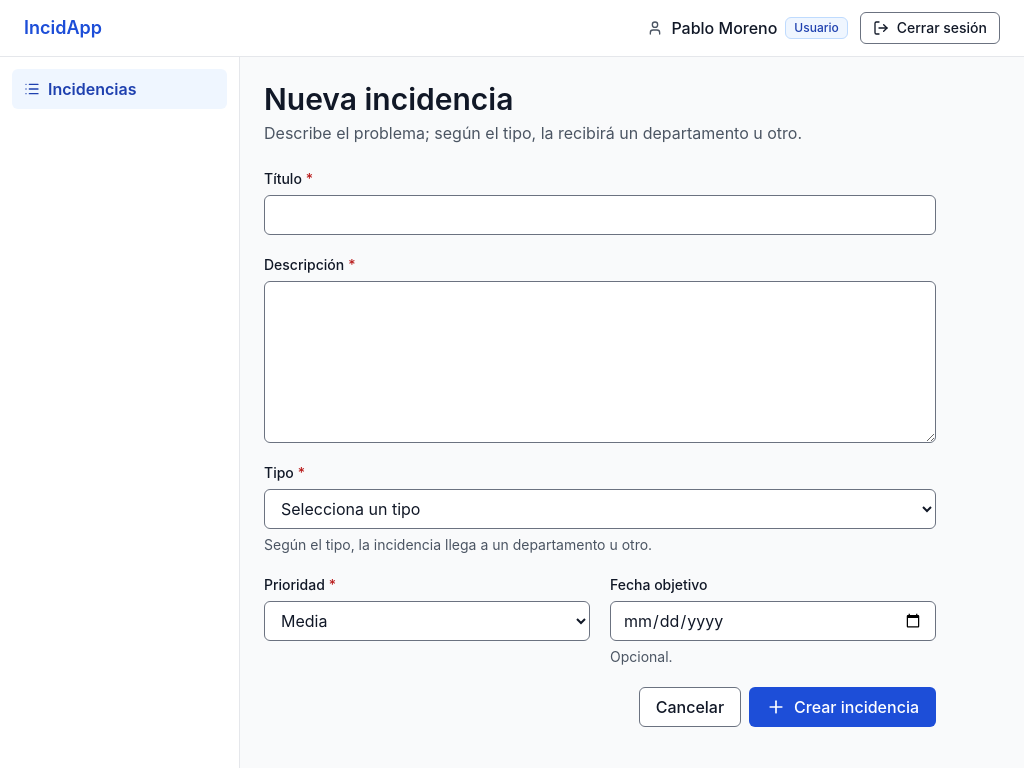
Test case: CA-03.13 · alta desde la web › al crear envía los datos y navega al detalle con un aviso
Type "Palé dañado en la recepción del camión de las 8:00" into the field labelled "Título*" at (600,215), box [264,195,936,235]
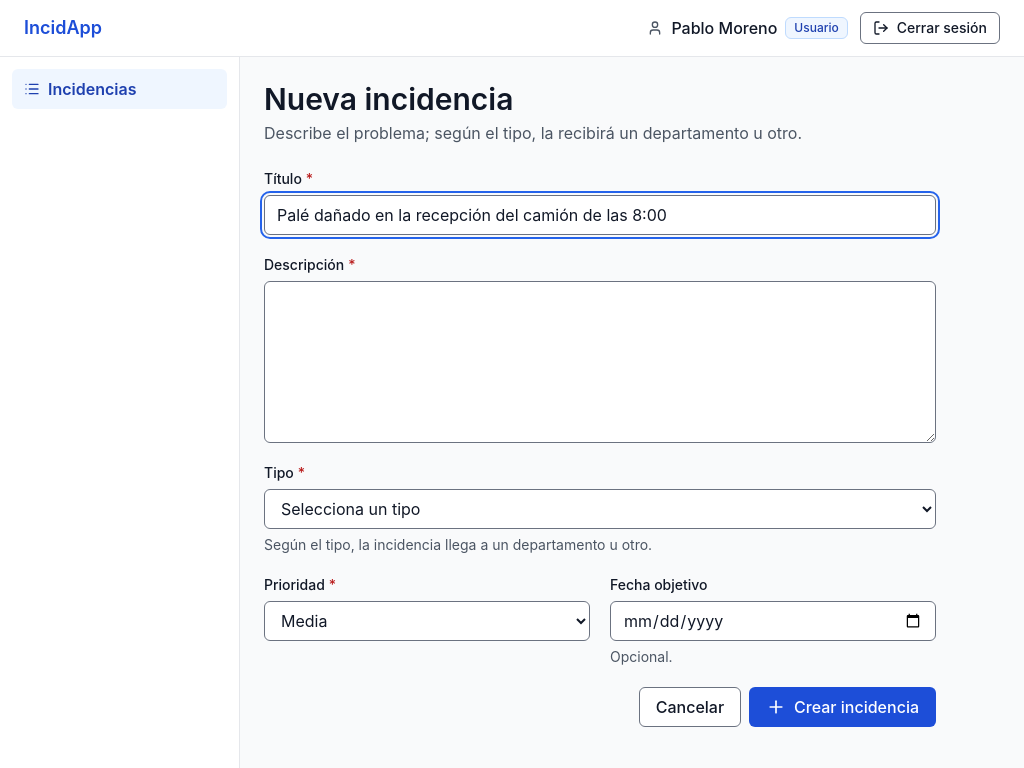
Type "El palé llegó con el film roto." into the text box labelled "Descripción*" at (600,362), box [264,281,936,443]
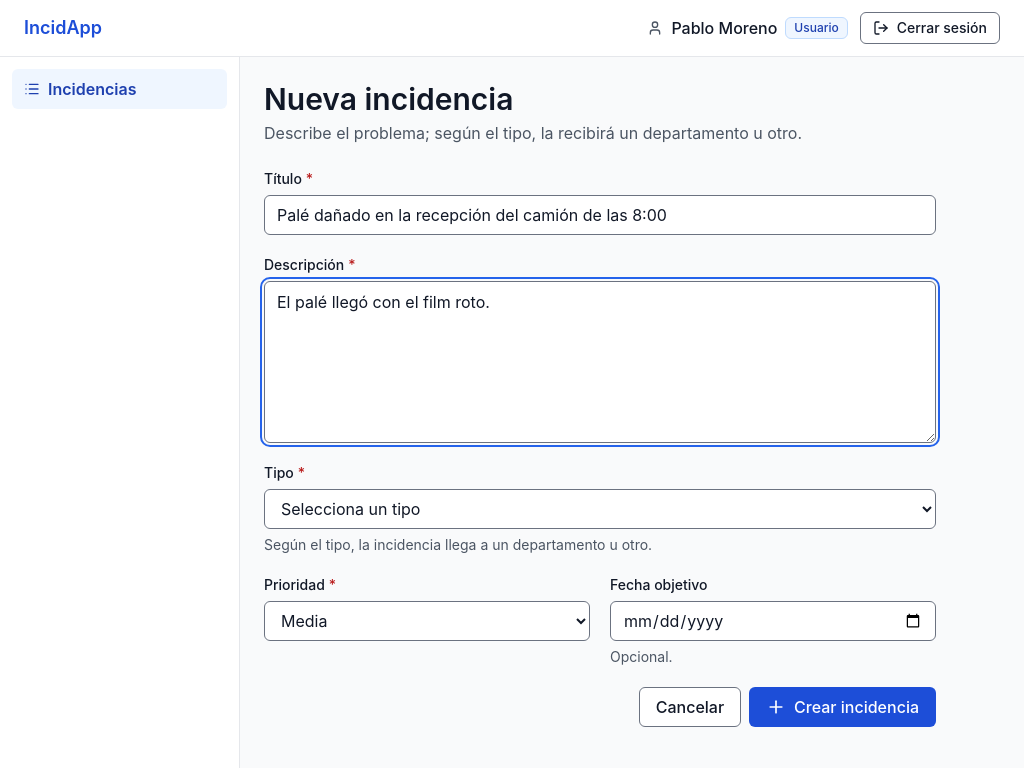
Select "Transporte" in the dropdown labelled "Tipo*" at (600,509), box [264,489,936,529]
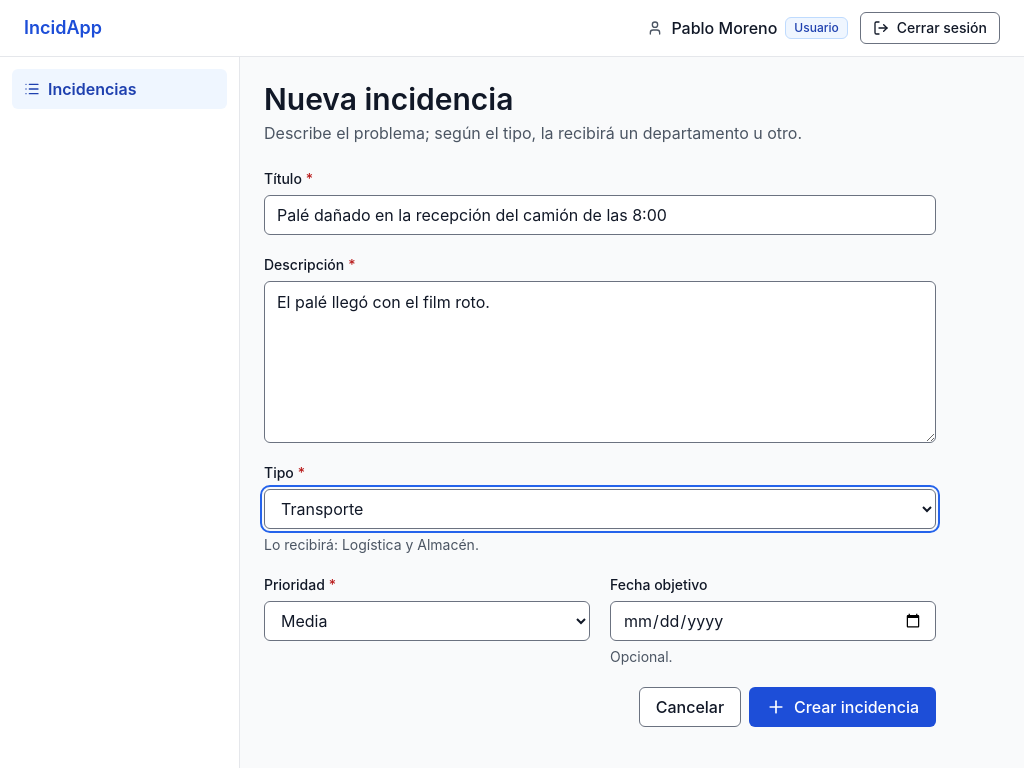
Select "Alta" in the dropdown labelled "Prioridad*" at (427,621), box [264,601,590,641]
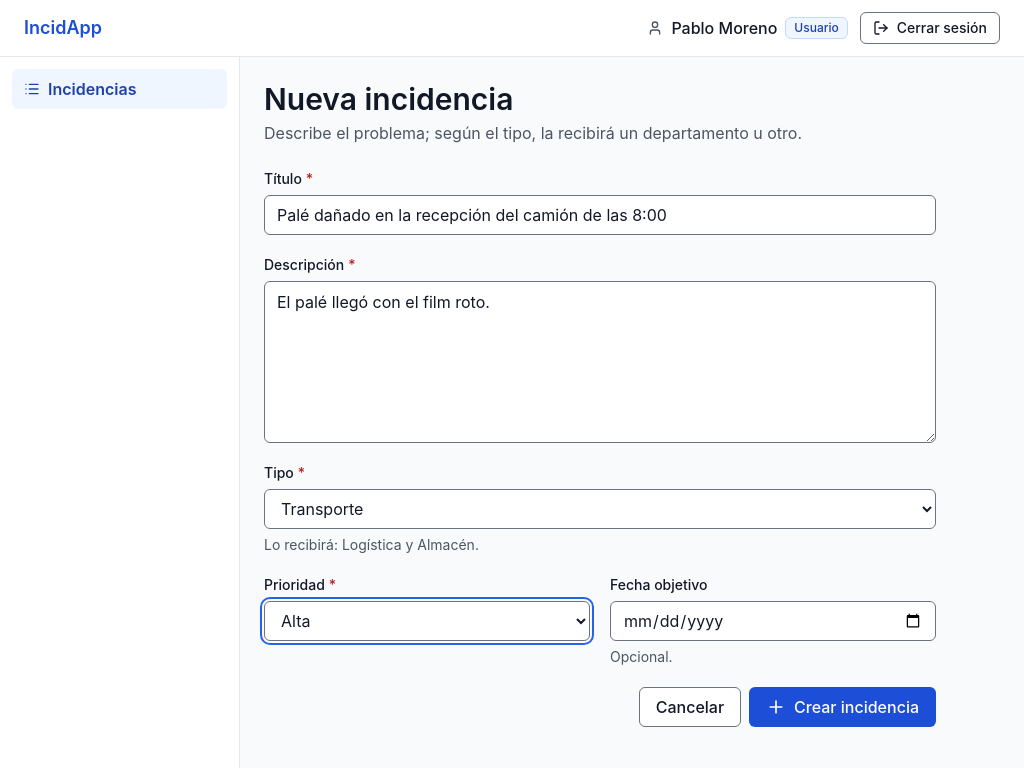
Type "2026-11-30" into the date field labelled "Fecha objetivo" at (773,621), box [610,601,936,641]
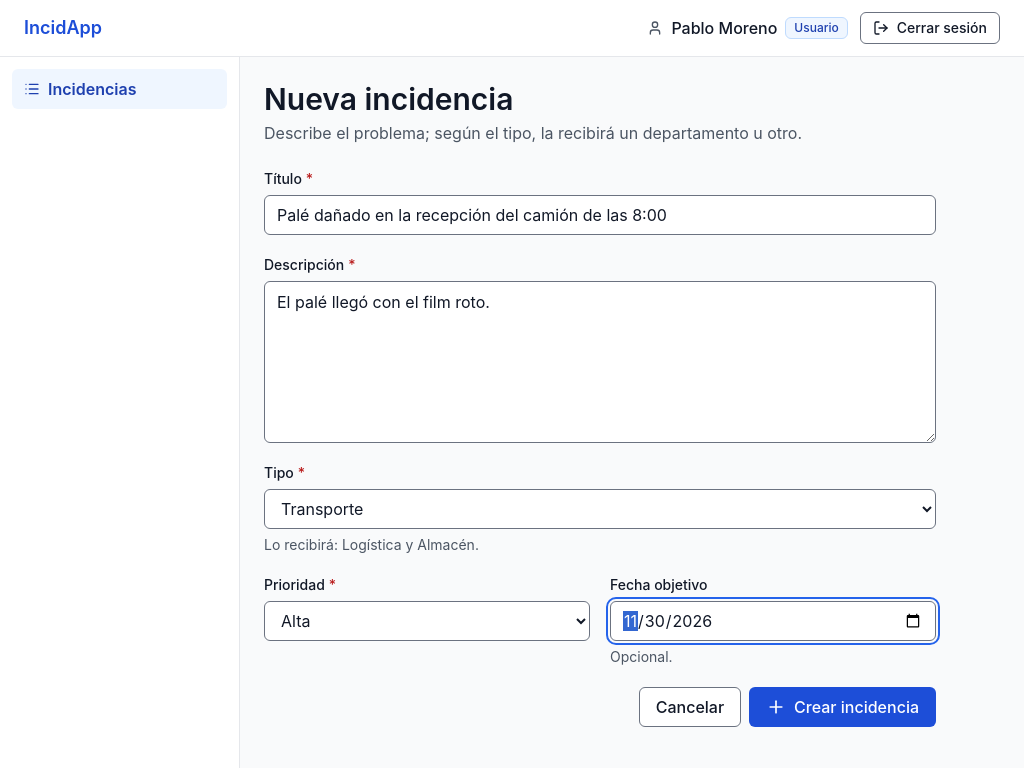
Click the button "Crear incidencia" at (843,707), box [749,687,936,727]
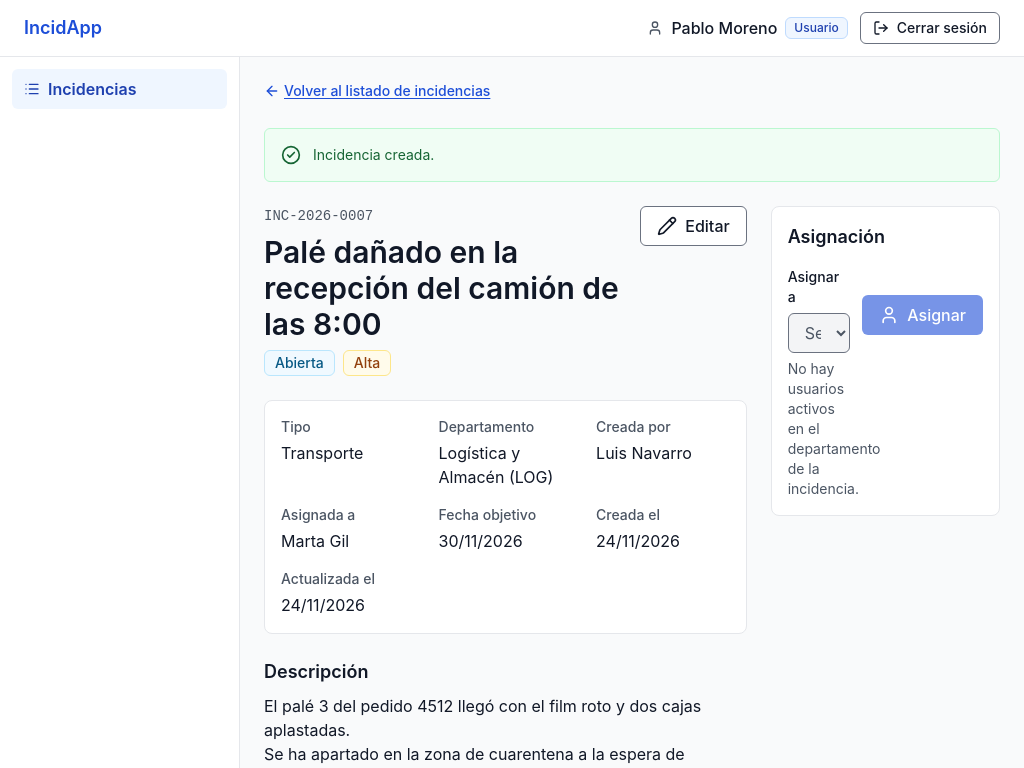
Now the text "Incidencia creada." is shown, box [313,145,434,165]
Now the heading "Palé dañado en la recepción del camión de las 8:00" is shown, box [264,234,624,342]
